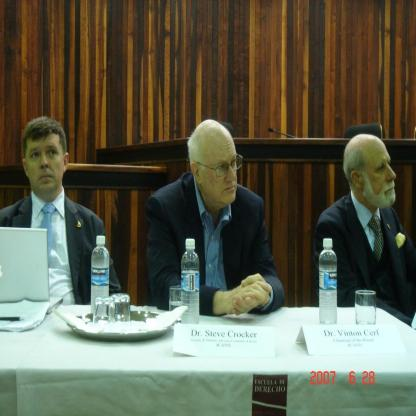board: (0, 228, 64, 315), (316, 238, 340, 326), (180, 238, 201, 326), (89, 233, 109, 312)
